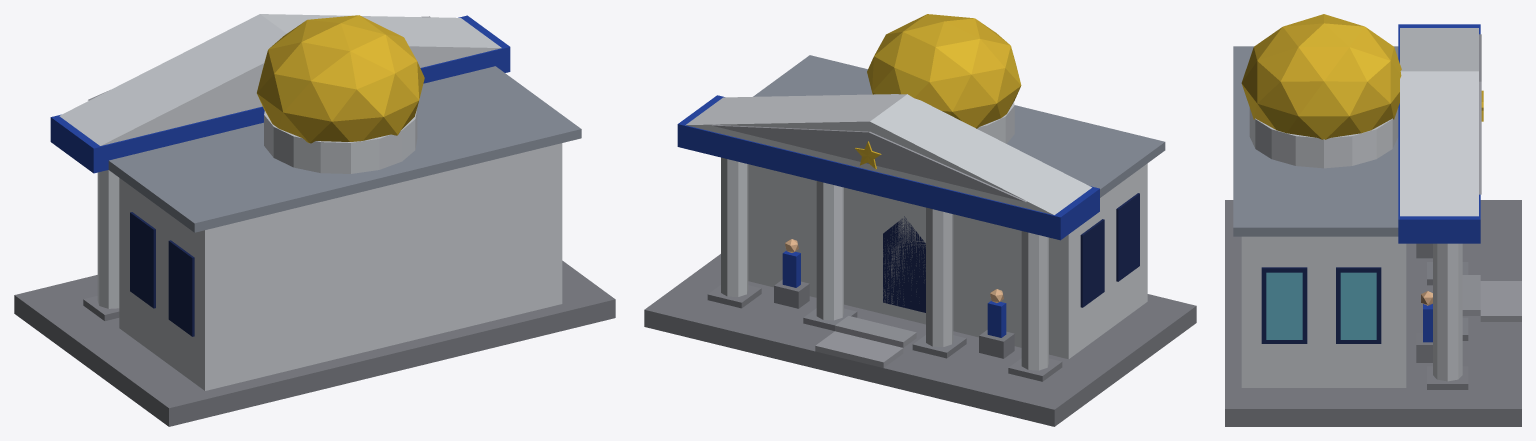
File: Decor_HeroHQ_Hall.fbx
3 renders of one model, left to right at view 1: azimuth 30°, elevation 25°; view 2: azimuth 150°, elevation 25°; view 3: azimuth 270°, elevation 25°, orthographic. The views are drawn at different scales.
Visible parts, largest first — view 1: Hall_Body; view 2: Hall_Body; view 3: Hall_Body.
Boxes of the visible parts, left/top/right/bottom form: Hall_Body: left=14, top=14, right=615, bottom=426; Hall_Body: left=644, top=14, right=1196, bottom=426; Hall_Body: left=1225, top=14, right=1521, bottom=426.
Bounding box in the file's own units: 30 × 20 × 18.
